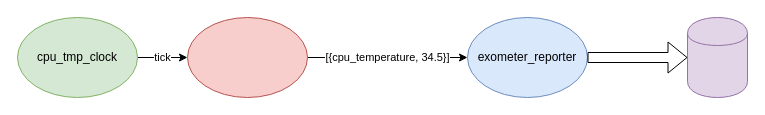
Image size: 765x115. Some labels were removed from this diagram. Here are the shapes that lost their labels. From the top down, the centre of each, then its label:
At (x=247, y=57): "cpu_temperature".
At (x=717, y=57): "graphite".
